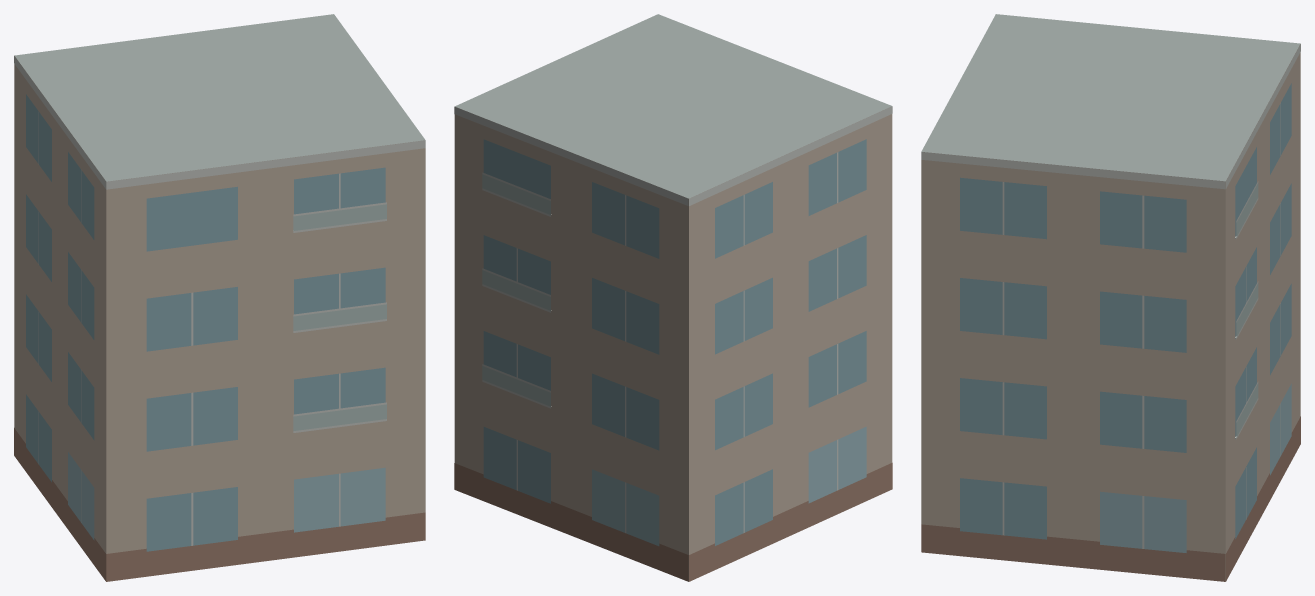
Rendered from residential-e407ef20-816c-422d-8fc7-b43961a3ee7a.glb.
3 renders of one model, left to right at view 1: azimuth 30°, elevation 25°; view 2: azimuth 150°, elevation 25°; view 3: azimuth 270°, elevation 25°, orthographic. The views are drawn at different scales.
Visible parts, largest first — view 1: residential-e407ef20-816c-422d-8fc7-b43961a3ee7a.tmp; view 2: residential-e407ef20-816c-422d-8fc7-b43961a3ee7a.tmp; view 3: residential-e407ef20-816c-422d-8fc7-b43961a3ee7a.tmp.
Part boxes in pixels (bbox=[...]): residential-e407ef20-816c-422d-8fc7-b43961a3ee7a.tmp: bbox=[14, 14, 425, 581]; residential-e407ef20-816c-422d-8fc7-b43961a3ee7a.tmp: bbox=[454, 14, 892, 581]; residential-e407ef20-816c-422d-8fc7-b43961a3ee7a.tmp: bbox=[921, 14, 1300, 581].
Bounding box in the file's own units: 10.94 × 12.2 × 10.49.
